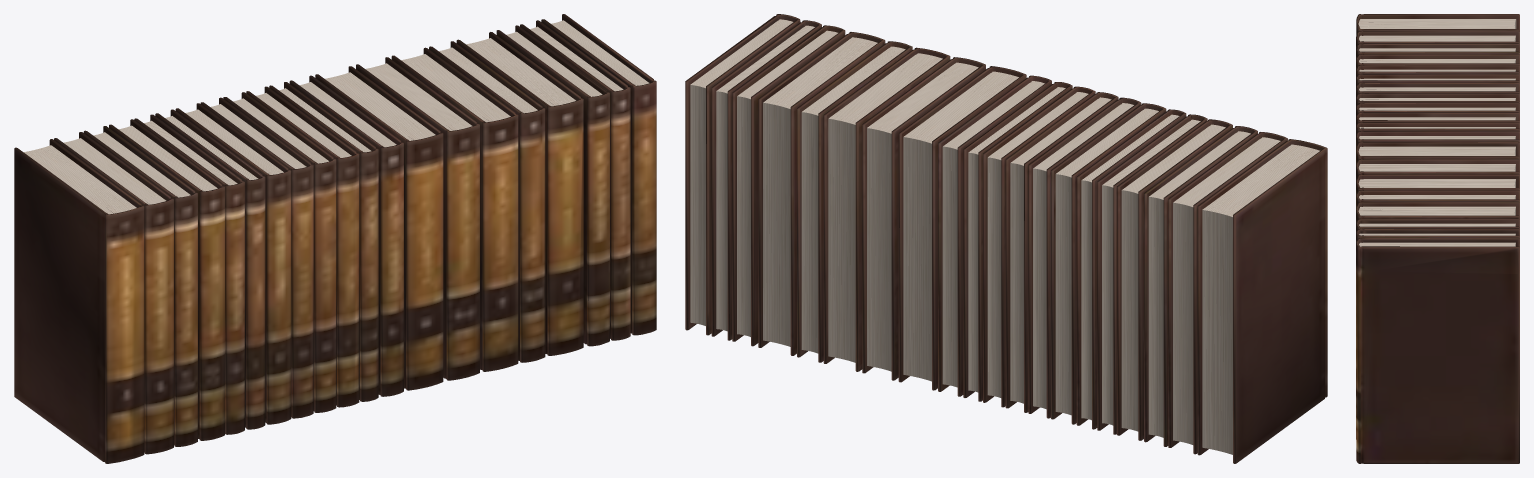
The model's file is book_encyclopedia_set_01.glb.
3 renders of one model, left to right at view 1: azimuth 30°, elevation 25°; view 2: azimuth 150°, elevation 25°; view 3: azimuth 270°, elevation 25°, orthographic. The views are drawn at different scales.
Parts seen in each view (by area): view 1: book_encyclopedia_set_01_book01; view 2: book_encyclopedia_set_01_book01; view 3: book_encyclopedia_set_01_book01.
Part boxes in pixels (bbox=[...]): book_encyclopedia_set_01_book01: bbox=[14, 14, 656, 463]; book_encyclopedia_set_01_book01: bbox=[685, 14, 1327, 463]; book_encyclopedia_set_01_book01: bbox=[1356, 14, 1519, 463].
Bounding box in the file's own units: 0.5513 × 0.2374 × 0.1631.
2 materials, 2 textured.
